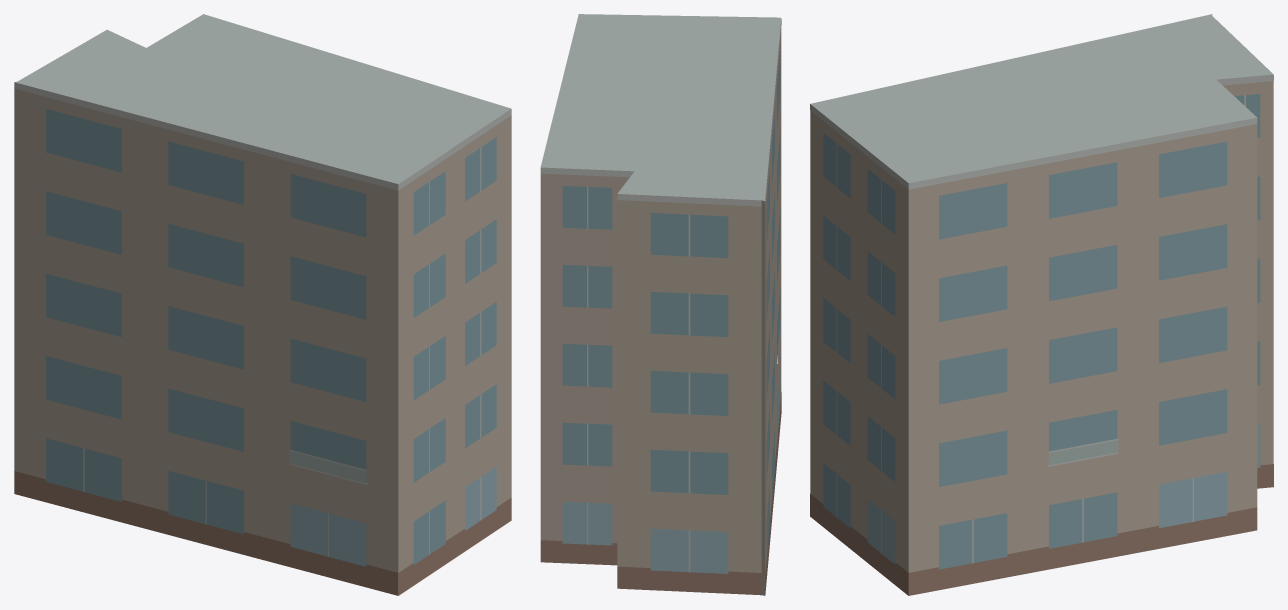
Rendered from survey-upis-32863895.glb.
The picture shows the model from 3 angles, left to right: view 1: azimuth 30°, elevation 25°; view 2: azimuth 150°, elevation 25°; view 3: azimuth 270°, elevation 25°; orthographic projection. The views are drawn at different scales.
Parts seen in each view (by area): view 1: survey-upis-32863895.tmp; view 2: survey-upis-32863895.tmp; view 3: survey-upis-32863895.tmp.
Part boxes in pixels (bbox=[...]): survey-upis-32863895.tmp: bbox=[14, 14, 511, 595]; survey-upis-32863895.tmp: bbox=[540, 14, 781, 595]; survey-upis-32863895.tmp: bbox=[810, 14, 1273, 595].
Bounding box in the file's own units: 13.73 × 15.6 × 15.9.
